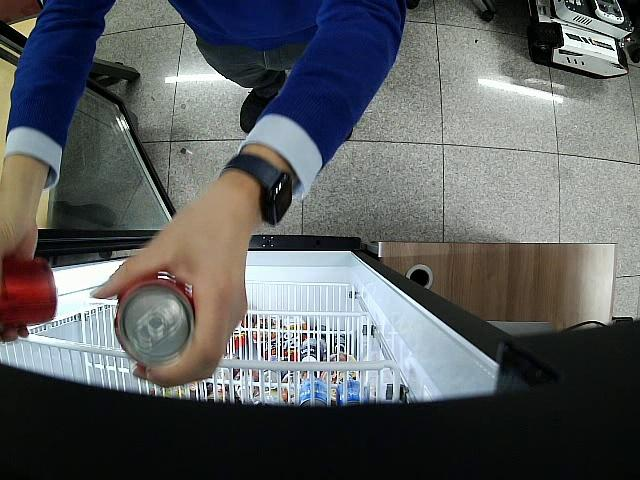00_hand: (88, 192, 247, 388)
11_cocaColaZero: (115, 272, 196, 368), (0, 257, 58, 325)
